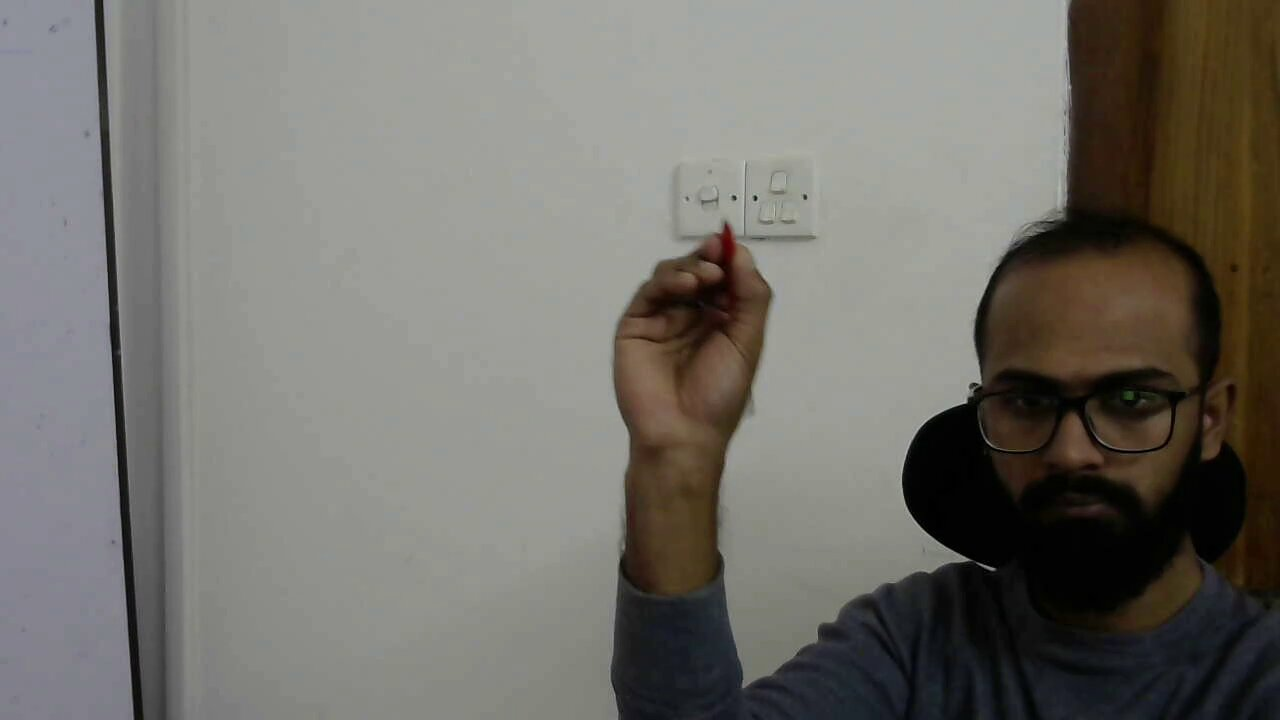pointer: (624, 229, 778, 375)
